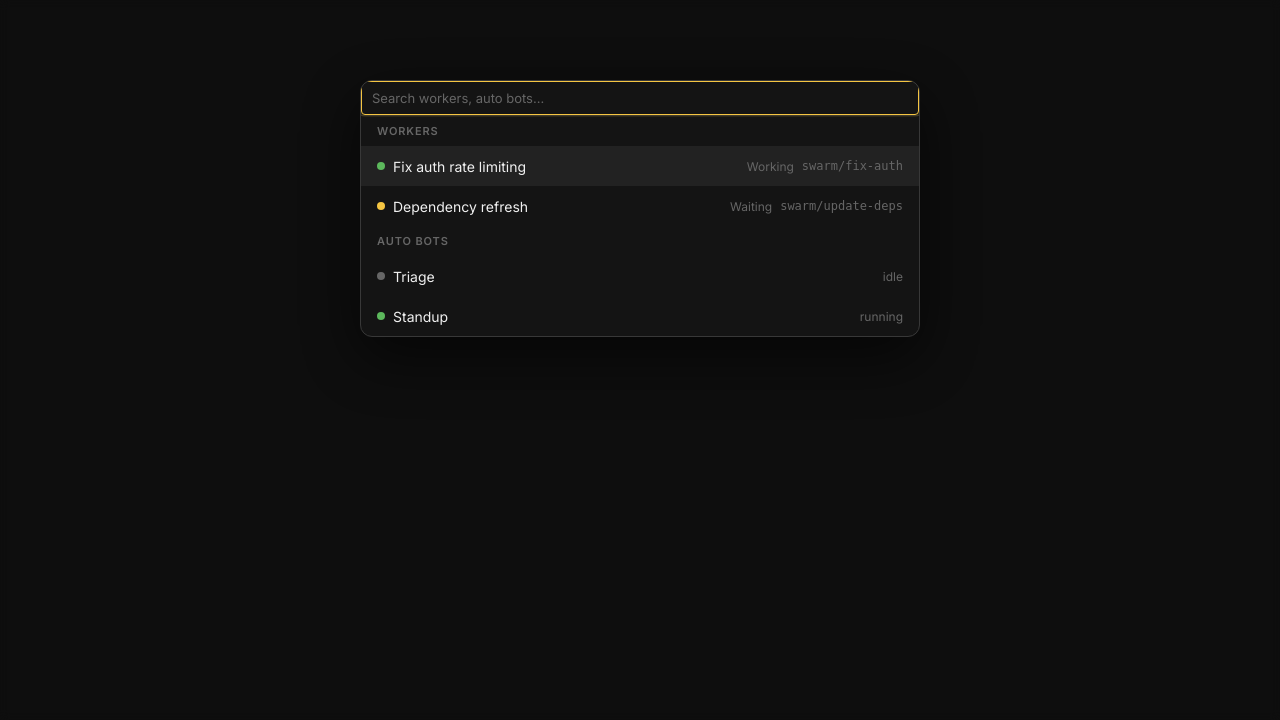
Test case: CommandPalette › filters auto bots by query
Type "triage" into the field with test id "command-palette-input" at (640, 98), box [361,81,919,115]
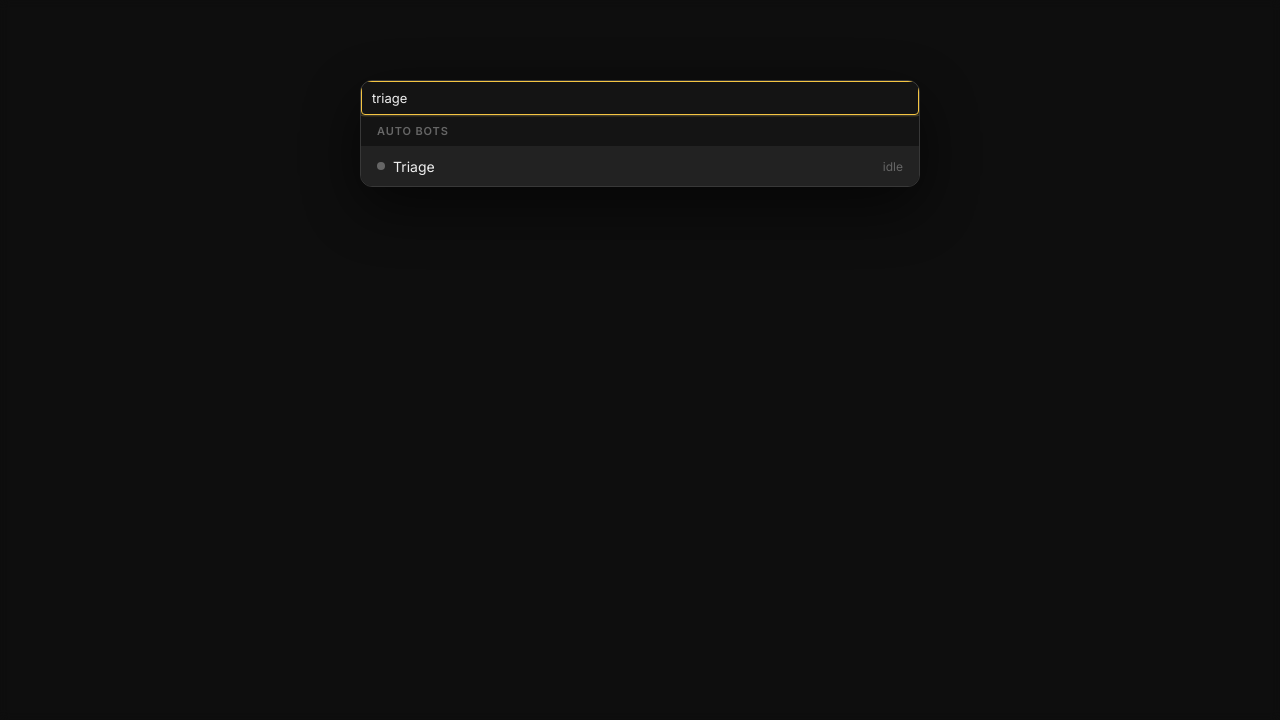
Check: the text "Triage" is shown, box [393,158,435,174]
Check: the button "Standup" is gone
